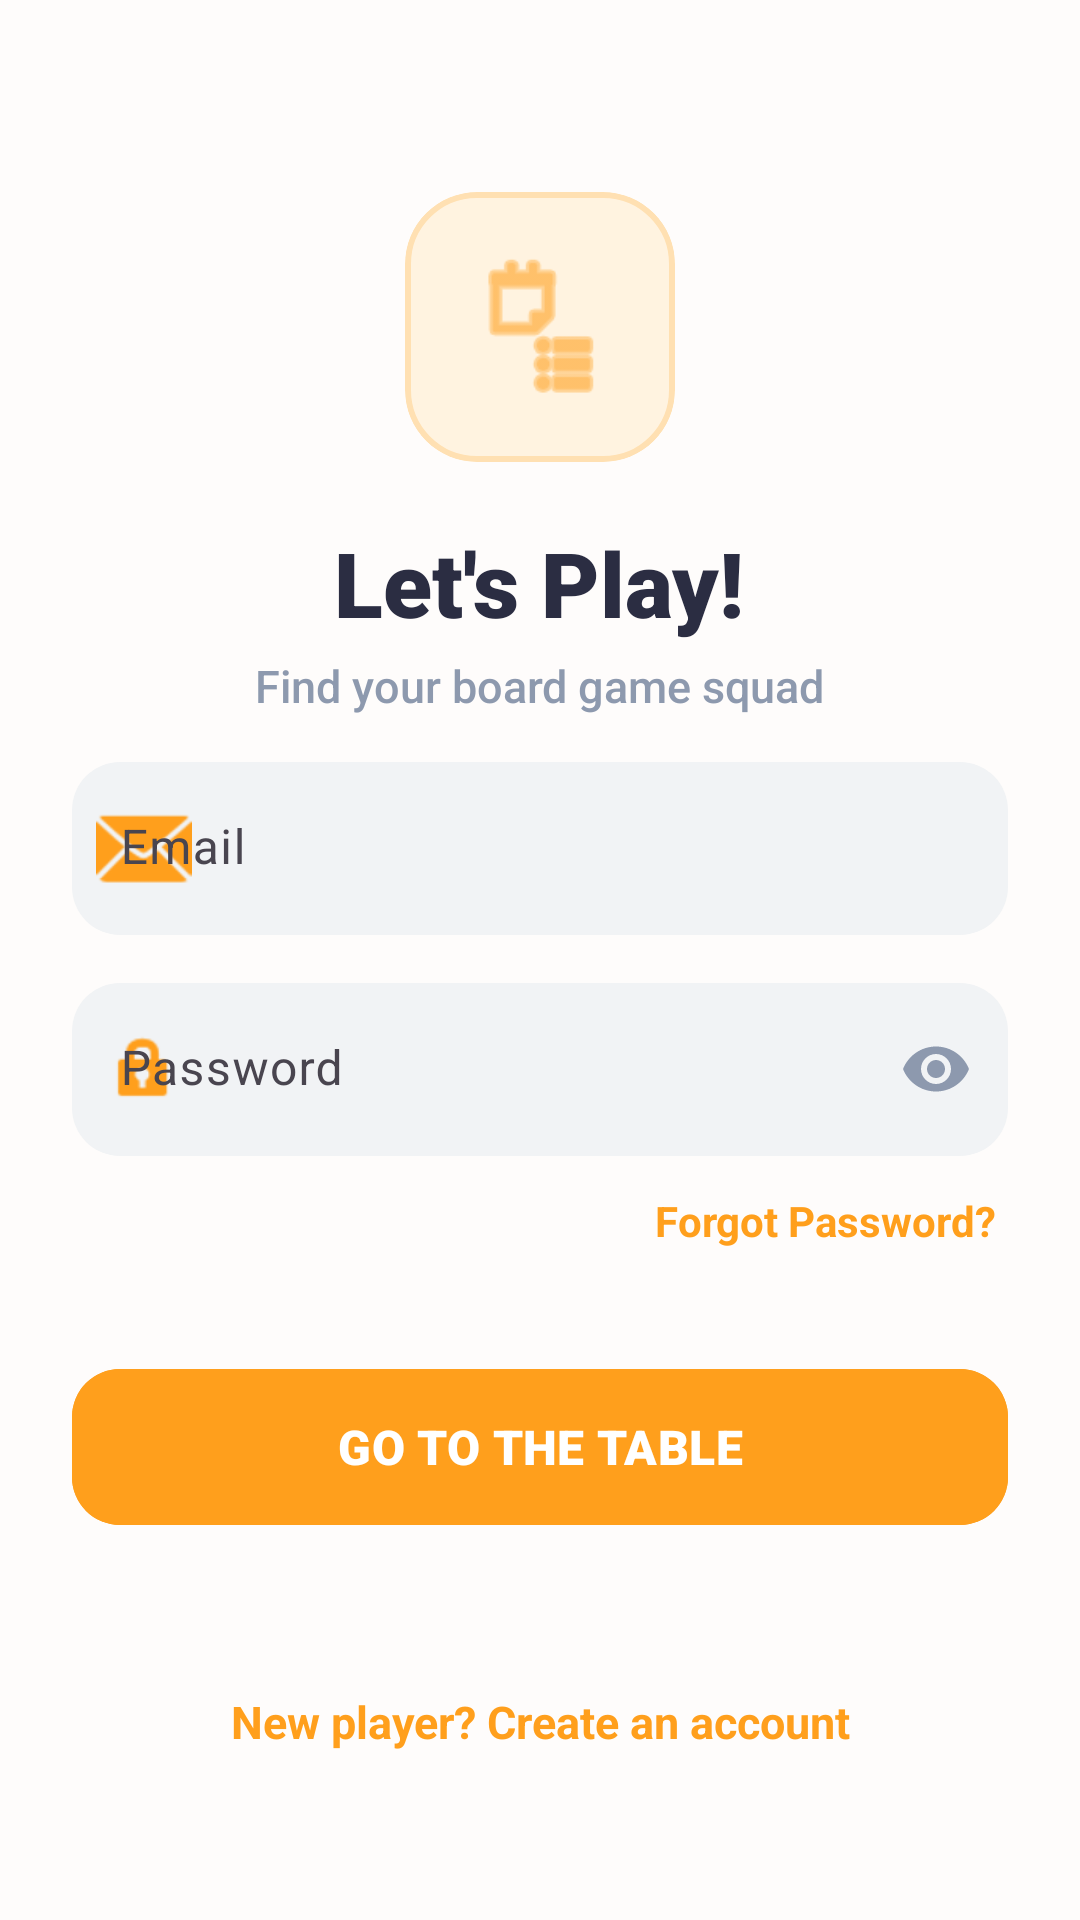

Screen size 1080×1920. Icon name, then its box in pixels as (x1, y1, x2, y2):
agenda: (405, 192, 675, 462)
